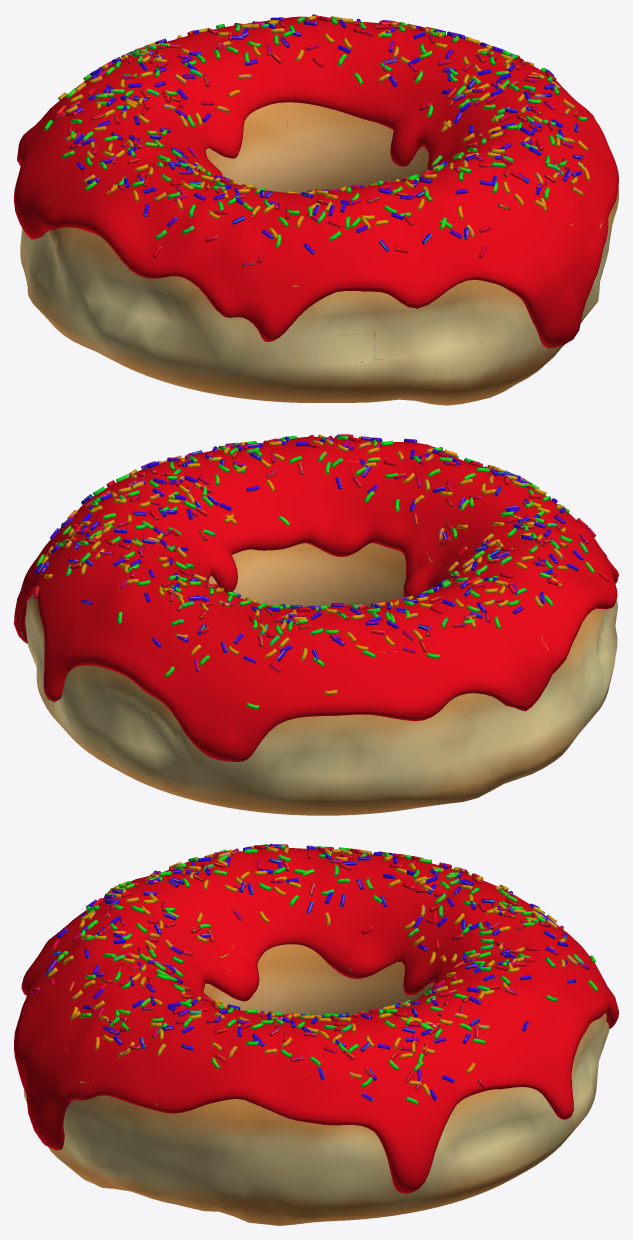
The model's file is dona.obj.
The picture shows the model from 3 angles, top to bottom: view 1: azimuth 30°, elevation 25°; view 2: azimuth 150°, elevation 25°; view 3: azimuth 270°, elevation 25°; orthographic projection. The views are drawn at different scales.
Visible parts, largest first — view 1: Donita_donita; view 2: Donita_donita; view 3: Donita_donita.
Part boxes in pixels (box(x1,y1,x2,y2)): Donita_donita: box(14, 14, 618, 405); Donita_donita: box(14, 434, 618, 815); Donita_donita: box(14, 844, 618, 1225).
Bounding box in the file's own units: 1.48 × 0.5758 × 1.52.
